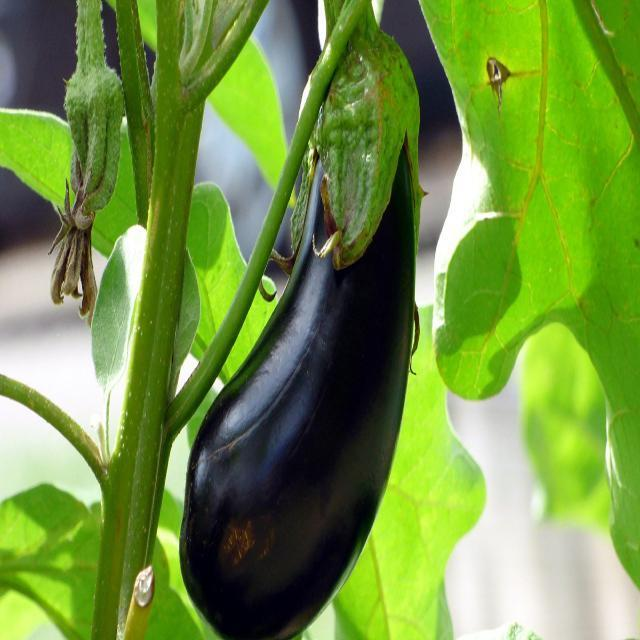eggplant: (204, 21, 428, 640)
